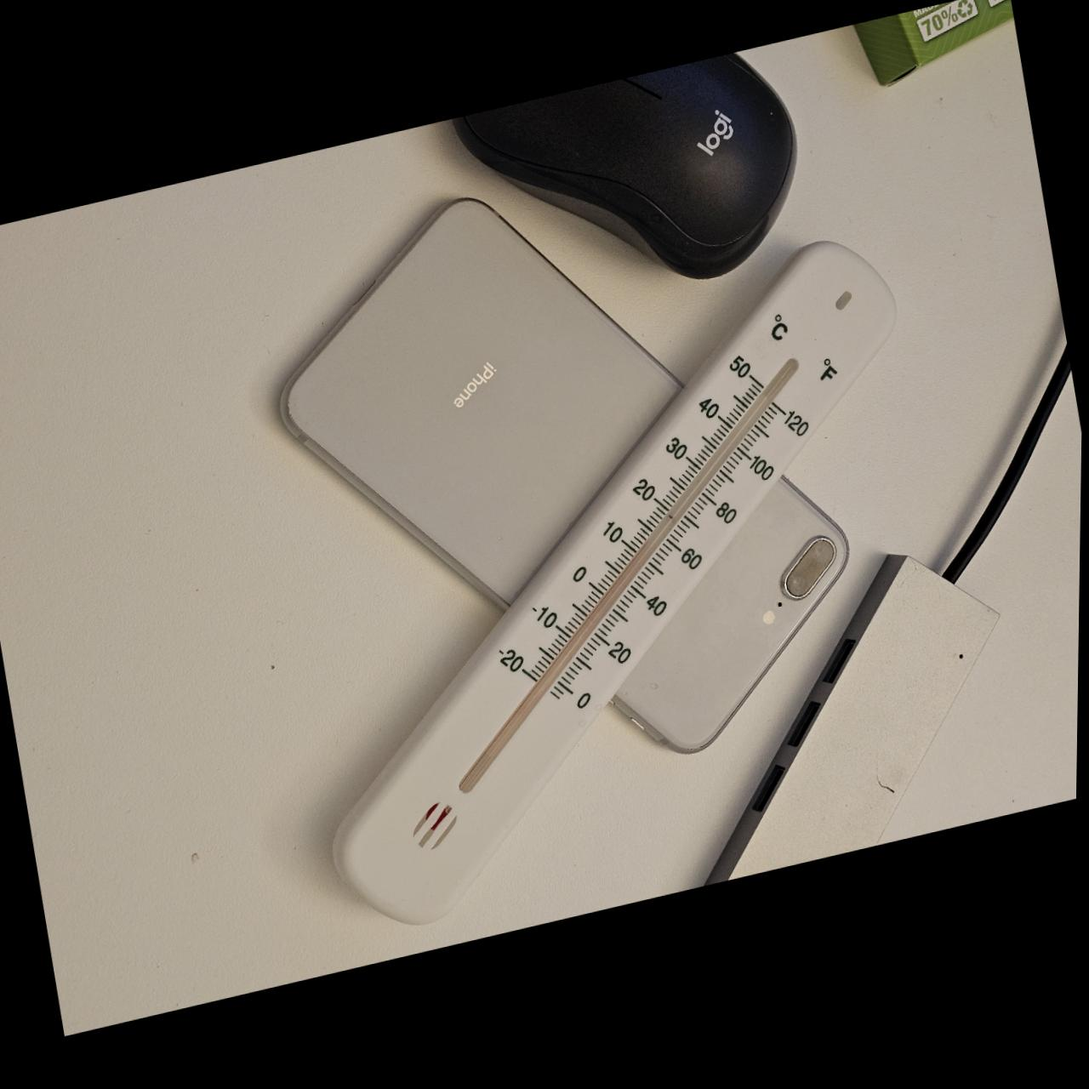thermometer: (246, 220, 982, 954)
